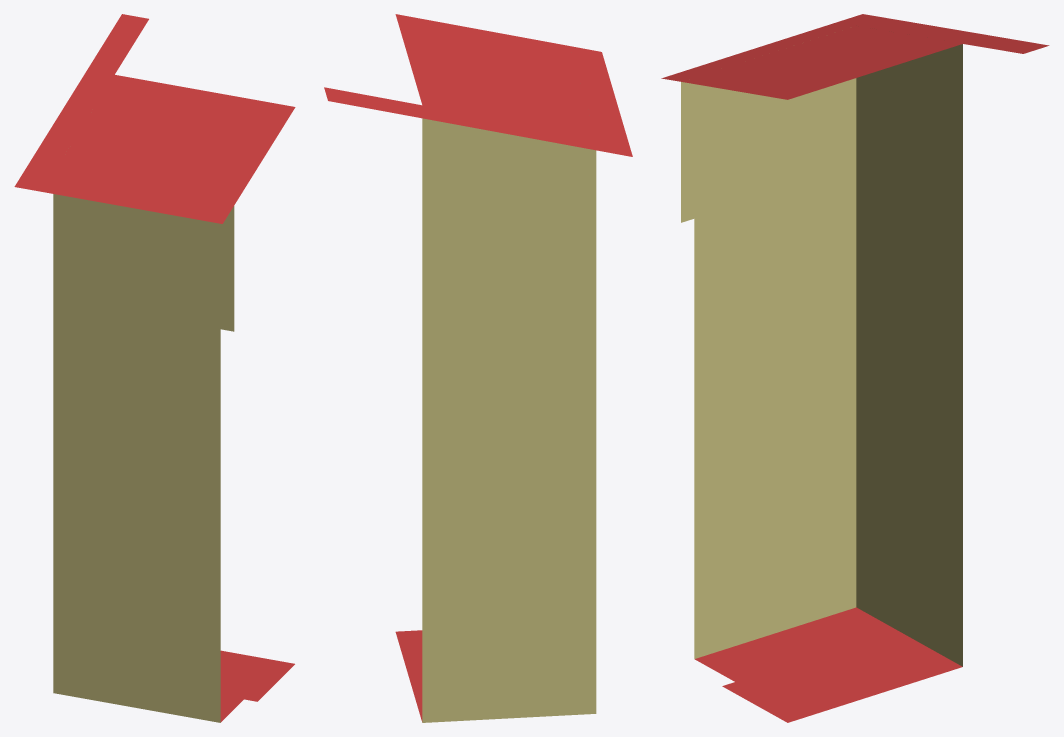
3 renders of one model, left to right at view 1: azimuth 30°, elevation 25°; view 2: azimuth 150°, elevation 25°; view 3: azimuth 270°, elevation 25°, orthographic. The views are drawn at different scales.
Size of the model in its own units: 4.82 by 5.85 by 10.74.
